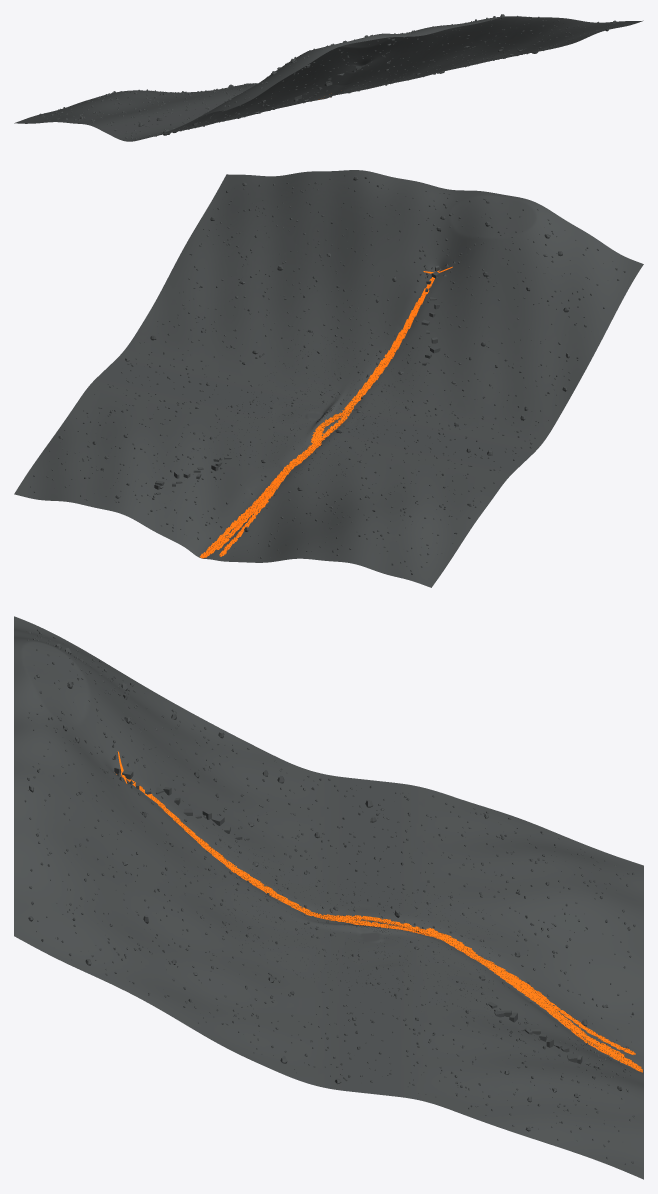
Rendered from ember-midflank-production-r5.glb.
3 views of the same model, one above another, from view 1: azimuth 30°, elevation 25°; view 2: azimuth 150°, elevation 25°; view 3: azimuth 270°, elevation 25° (orthographic). The views are drawn at different scales.
Visible parts, largest first — view 1: EMBER_Terrain, EMBER_BakedTalus; view 2: EMBER_Terrain, EMBER_BakedTalus, EMBER_LavaSimulatorDeposit, EMBER_FlankButtresses; view 3: EMBER_Terrain, EMBER_BakedTalus, EMBER_LavaSimulatorDeposit, EMBER_FlankButtresses.
Part boxes in pixels (bbox=[...]): EMBER_Terrain: bbox=[14, 16, 643, 141]; EMBER_BakedTalus: bbox=[39, 14, 624, 139]; EMBER_Terrain: bbox=[14, 170, 643, 587]; EMBER_BakedTalus: bbox=[30, 175, 625, 574]; EMBER_LavaSimulatorDeposit: bbox=[200, 270, 439, 558]; EMBER_FlankButtresses: bbox=[154, 265, 440, 494]; EMBER_Terrain: bbox=[14, 616, 643, 1179]; EMBER_BakedTalus: bbox=[25, 629, 635, 1164]; EMBER_LavaSimulatorDeposit: bbox=[116, 772, 642, 1072]; EMBER_FlankButtresses: bbox=[114, 767, 590, 1065].
Bounding box in the file's own units: 380 × 201 × 335.
